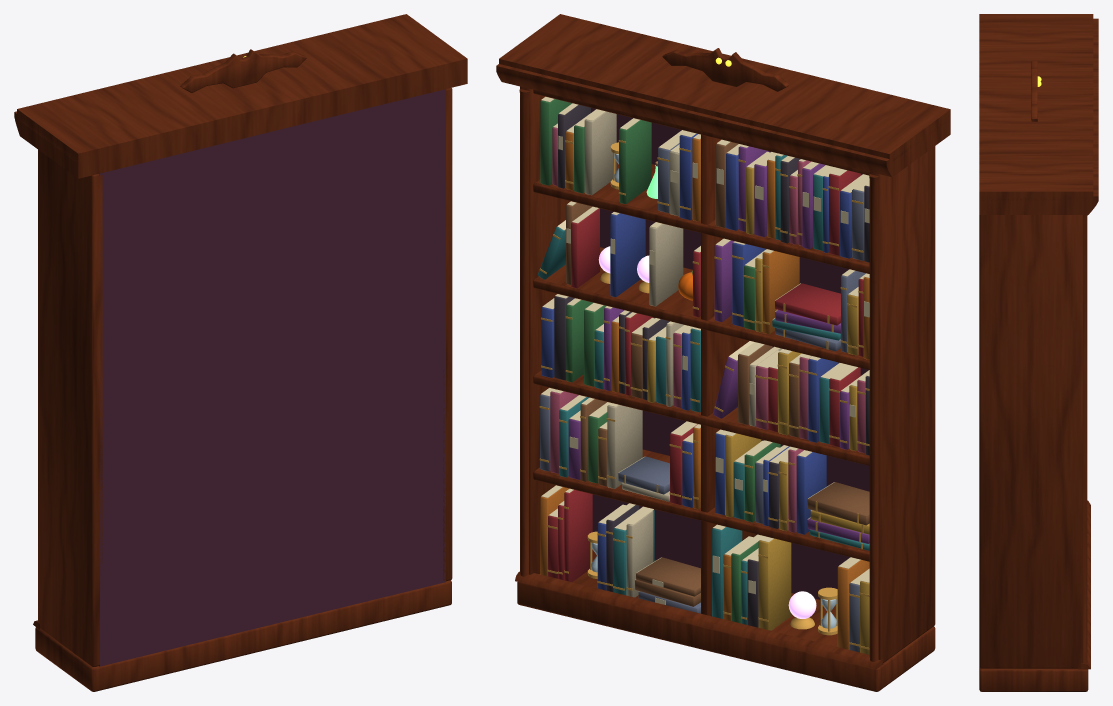
The model's file is manor_bookshelf.glb.
3 views of the same model, side by side, from view 1: azimuth 30°, elevation 25°; view 2: azimuth 150°, elevation 25°; view 3: azimuth 270°, elevation 25° (orthographic). The views are drawn at different scales.
Parts seen in each view (by area): view 1: Bookshelf; view 2: Bookshelf; view 3: Bookshelf.
Boxes of the visible parts, x1=… form: Bookshelf: x1=14, y1=14, x2=467, y2=691; Bookshelf: x1=496, y1=14, x2=950, y2=691; Bookshelf: x1=979, y1=14, x2=1098, y2=691.
Bounding box in the file's own units: 1.62 × 2.29 × 0.46.
18 materials, 2 textured.
